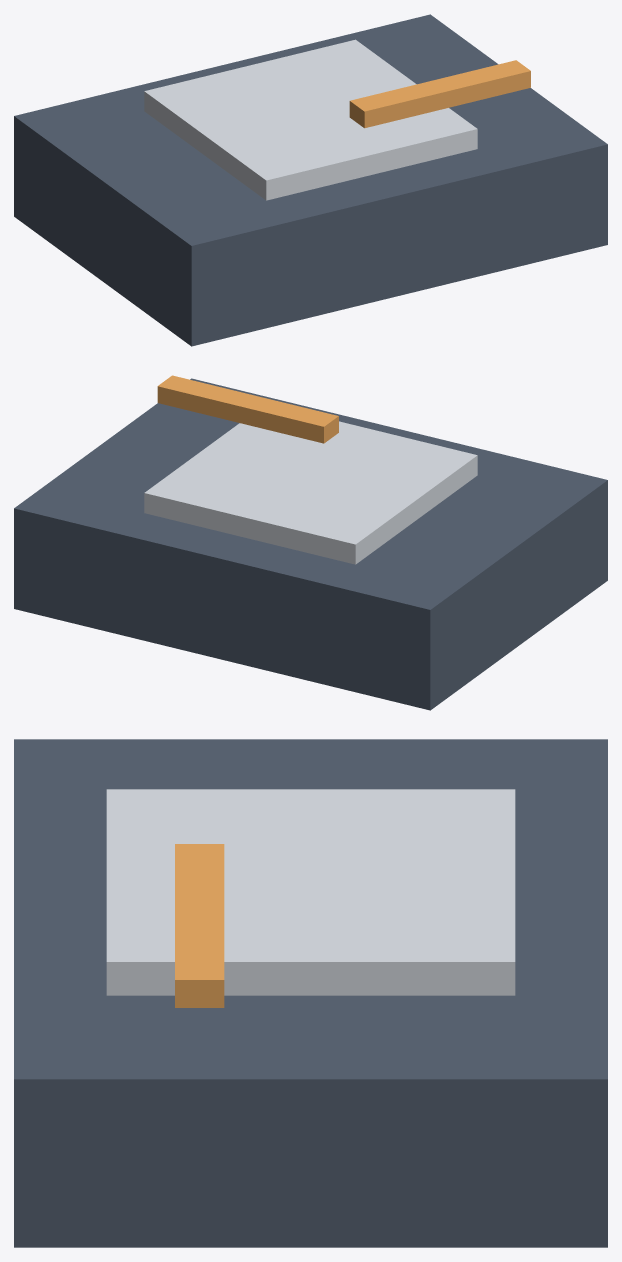
The model's file is hard-disk.glb.
The picture shows the model from 3 angles, top to bottom: view 1: azimuth 30°, elevation 25°; view 2: azimuth 150°, elevation 25°; view 3: azimuth 270°, elevation 25°; orthographic projection. The views are drawn at different scales.
Parts seen in each view (by area): view 1: hard disk body, disk plate, arm; view 2: hard disk body, disk plate, arm; view 3: hard disk body, disk plate, arm.
Part boxes in pixels (x1,y1,x2,y2): hard disk body: [14, 14, 607, 346]; disk plate: [144, 39, 477, 200]; arm: [349, 60, 530, 128]; hard disk body: [14, 378, 607, 710]; disk plate: [144, 421, 477, 564]; arm: [157, 375, 338, 443]; hard disk body: [14, 739, 607, 1247]; disk plate: [106, 789, 515, 995]; arm: [175, 844, 224, 1007].
Size of the model in its own units: 1.3 by 0.435 by 0.96.
